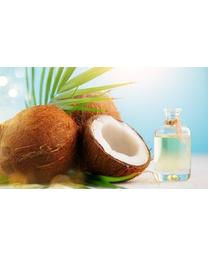coconut: (1, 103, 78, 176), (81, 114, 151, 181)
